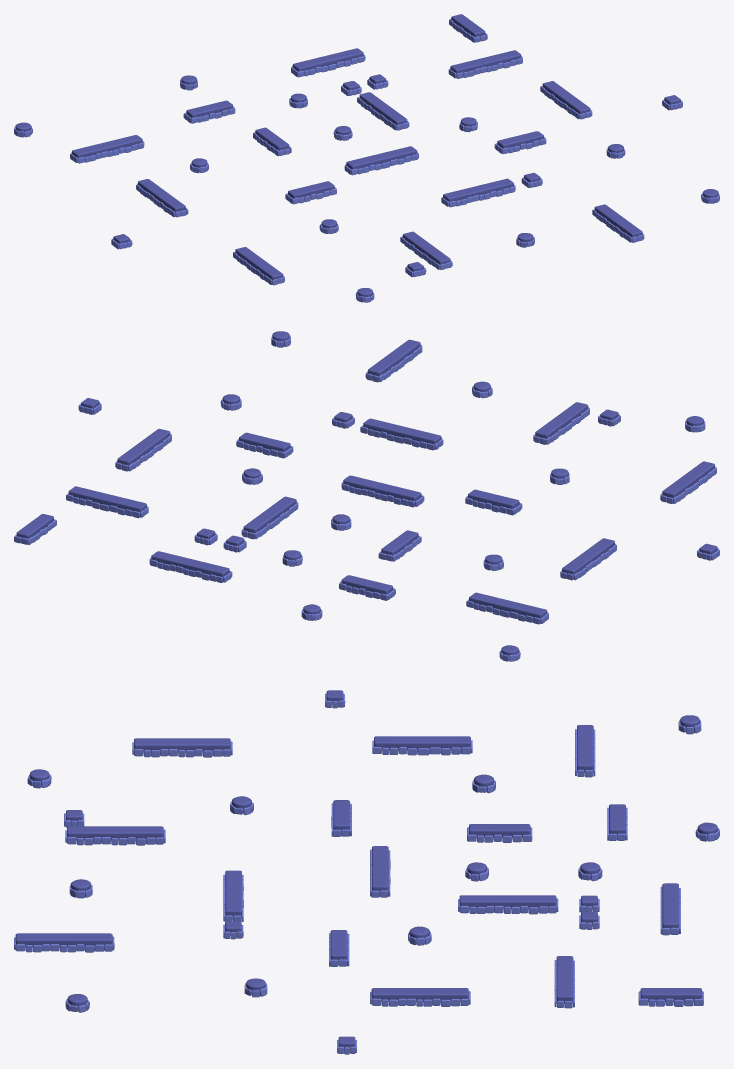
File: WallObstacles.fbx
3 views of the same model, one above another, from view 1: azimuth 30°, elevation 25°; view 2: azimuth 150°, elevation 25°; view 3: azimuth 270°, elevation 25° (orthographic). The views are drawn at different scales.
Parts seen in each view (by area): view 1: Long_Wall2, Long_Wall3, Long_Wall6, Long_Wall5, Long_Wall8, Long_Wall11, Long_Wall4, Long_Wall1, Long_Wall7, Long_Wall9, Long_Wall10, Wall2 (+4 smaller); view 2: Long_Wall6, Long_Wall2, Long_Wall5, Long_Wall3, Long_Wall8, Long_Wall1, Long_Wall4, Long_Wall11, Long_Wall10, Long_Wall9, Long_Wall7, Wall3 (+4 smaller); view 3: Long_Wall11, Long_Wall9, Long_Wall10, Long_Wall7, Long_Wall1, Long_Wall4, Wall1, Wall5, Long_Wall5, Long_Wall8, Long_Wall3, Long_Wall6 (+4 smaller).
Part boxes in pixels (x1,y1,x2,y2): Long_Wall2: (344, 146, 419, 175); Long_Wall3: (291, 48, 365, 77); Long_Wall6: (441, 178, 515, 207); Long_Wall5: (448, 50, 522, 78); Long_Wall8: (70, 135, 144, 163); Long_Wall11: (592, 204, 644, 242); Long_Wall4: (540, 81, 592, 119); Long_Wall1: (357, 92, 409, 130); Long_Wall7: (136, 179, 188, 217); Long_Wall9: (400, 231, 452, 269); Long_Wall10: (233, 247, 284, 285); Wall2: (183, 100, 235, 123); Long_Wall6: (360, 418, 443, 450); Long_Wall2: (341, 475, 424, 507); Long_Wall5: (66, 486, 148, 518); Long_Wall3: (149, 551, 232, 582); Long_Wall8: (466, 592, 548, 624); Long_Wall1: (241, 496, 298, 539); Long_Wall4: (115, 428, 171, 471); Long_Wall11: (365, 339, 422, 382); Long_Wall10: (660, 461, 716, 503); Long_Wall9: (533, 402, 589, 444); Long_Wall7: (560, 538, 616, 580); Wall3: (465, 489, 522, 515); Long_Wall11: (14, 933, 114, 952); Long_Wall9: (65, 826, 165, 845); Long_Wall10: (132, 738, 232, 757); Long_Wall7: (372, 736, 472, 755); Long_Wall1: (458, 895, 558, 914); Long_Wall4: (370, 988, 470, 1006); Wall1: (467, 824, 532, 842); Wall5: (638, 988, 703, 1006); Long_Wall5: (554, 956, 574, 1008); Long_Wall8: (575, 725, 595, 777); Long_Wall3: (660, 883, 680, 935); Long_Wall6: (223, 870, 243, 921).
Bounding box in the file's own units: 3.02 × 0.0474 × 2.54.
